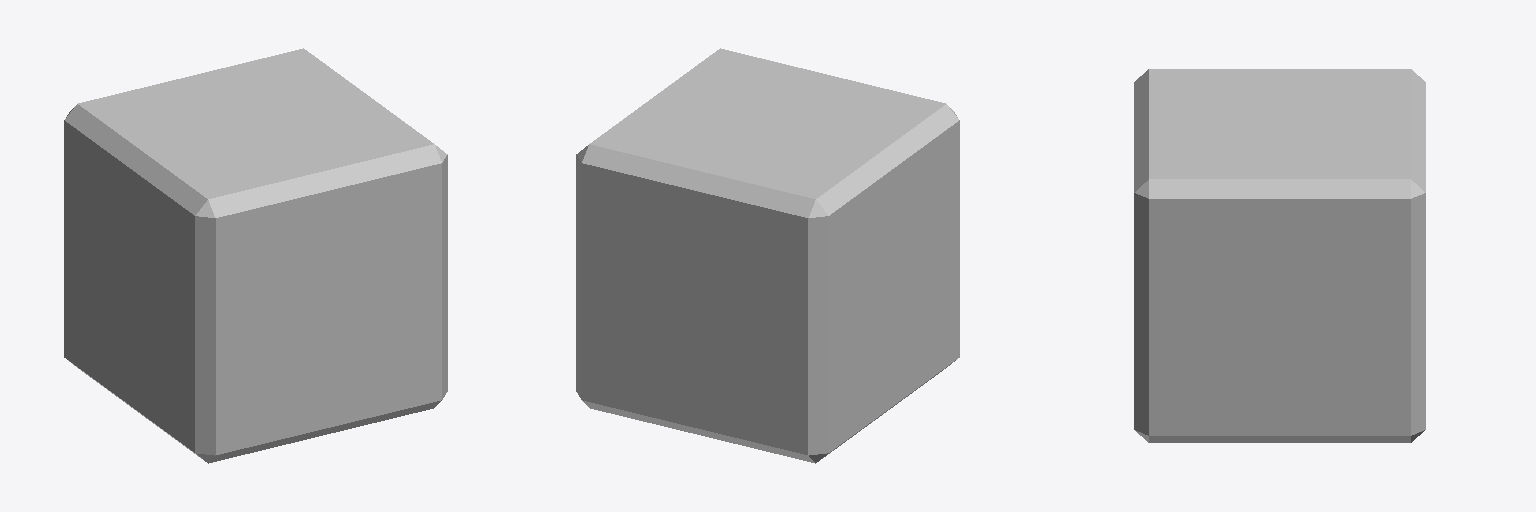
Rendered from MagicCube.obj.
The picture shows the model from 3 angles: view 1: azimuth 30°, elevation 25°; view 2: azimuth 150°, elevation 25°; view 3: azimuth 270°, elevation 25°; orthographic projection.
Parts seen in each view (by area): view 1: Magic_cube_Cubo.001; view 2: Magic_cube_Cubo.001; view 3: Magic_cube_Cubo.001.
Part boxes in pixels (bbox=[...]): Magic_cube_Cubo.001: bbox=[64, 48, 447, 463]; Magic_cube_Cubo.001: bbox=[576, 48, 959, 463]; Magic_cube_Cubo.001: bbox=[1134, 69, 1425, 442].
Size of the model in its own units: 1 by 1 by 1.